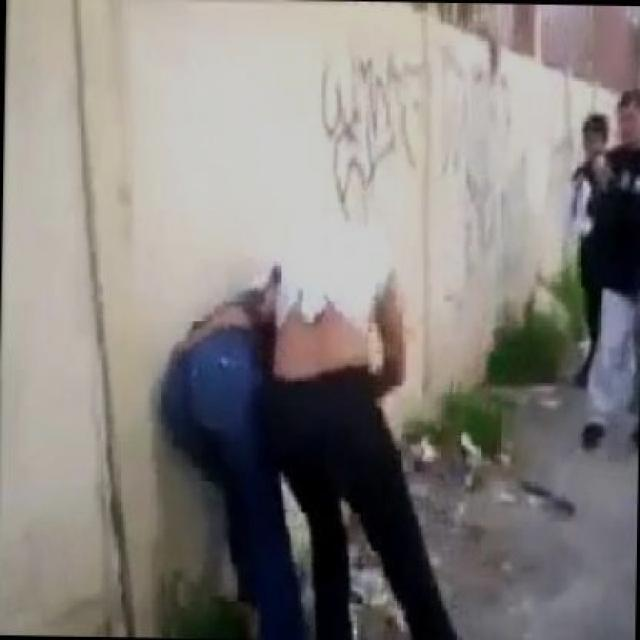fight: (125, 254, 457, 638)
non-fight: (552, 88, 638, 509)
